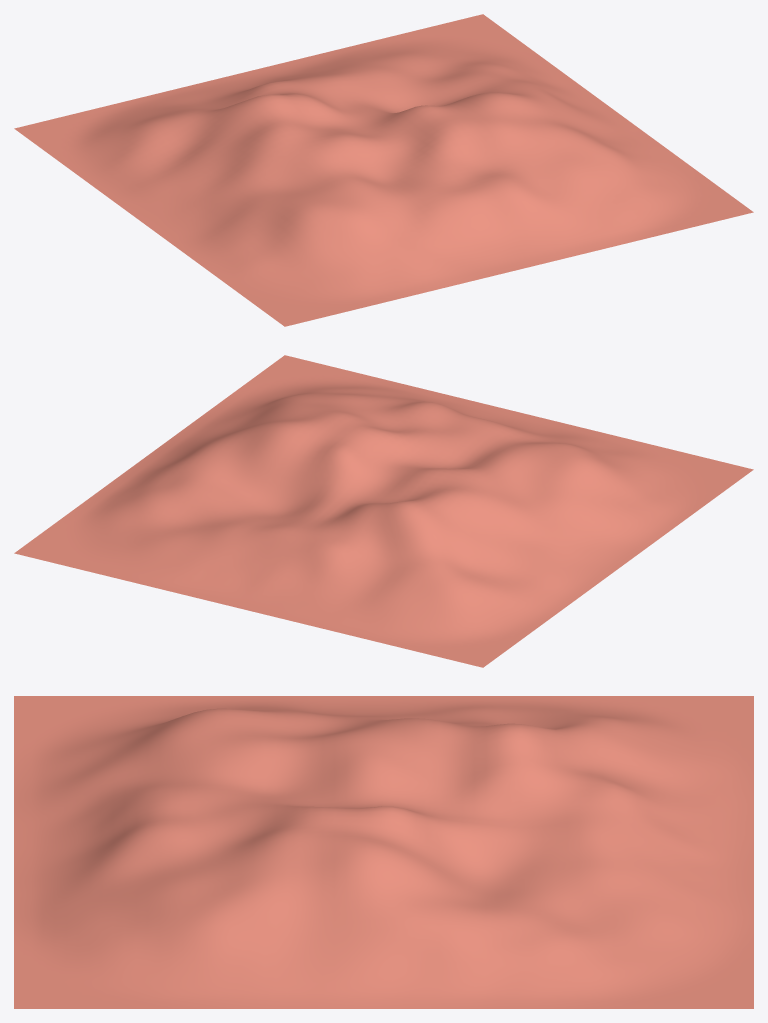
Rendered from Terrain1.fbx.
The picture shows the model from 3 angles, top to bottom: view 1: azimuth 30°, elevation 25°; view 2: azimuth 150°, elevation 25°; view 3: azimuth 270°, elevation 25°; orthographic projection. The views are drawn at different scales.
Visible parts, largest first — view 1: Terrain1; view 2: Terrain1; view 3: Terrain1.
Part boxes in pixels (x1,y1,x2,y2): Terrain1: (14,14,753,326); Terrain1: (14,355,753,667); Terrain1: (14,696,753,1008).
Bounding box in the file's own units: 10 × 1.15 × 10.
